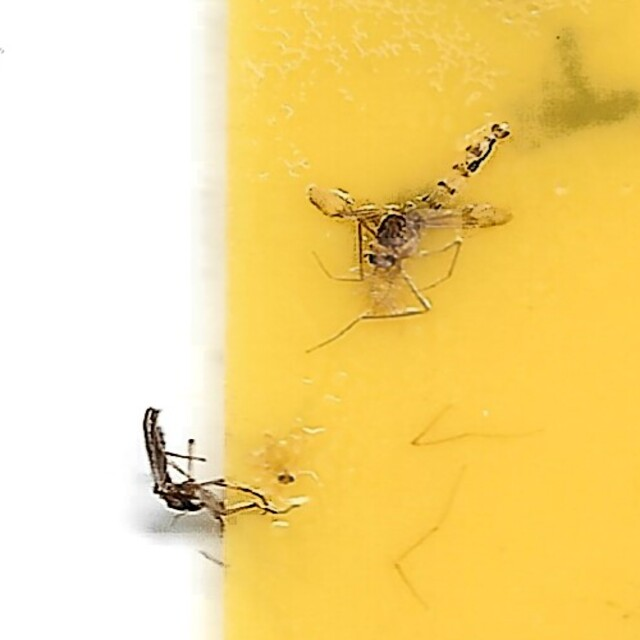Nematocera: (301, 113, 512, 282), (128, 395, 242, 527)
